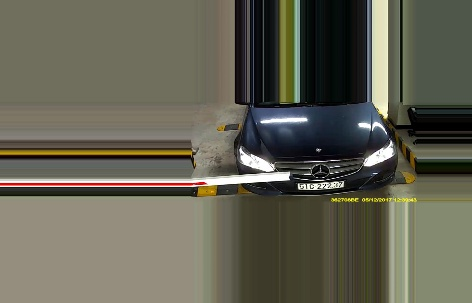plate: (295, 177, 344, 192)
